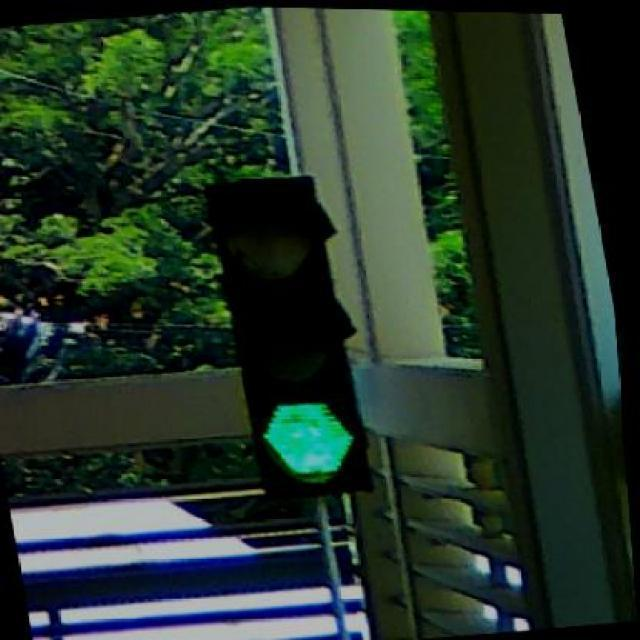green_light: (198, 178, 376, 486)
